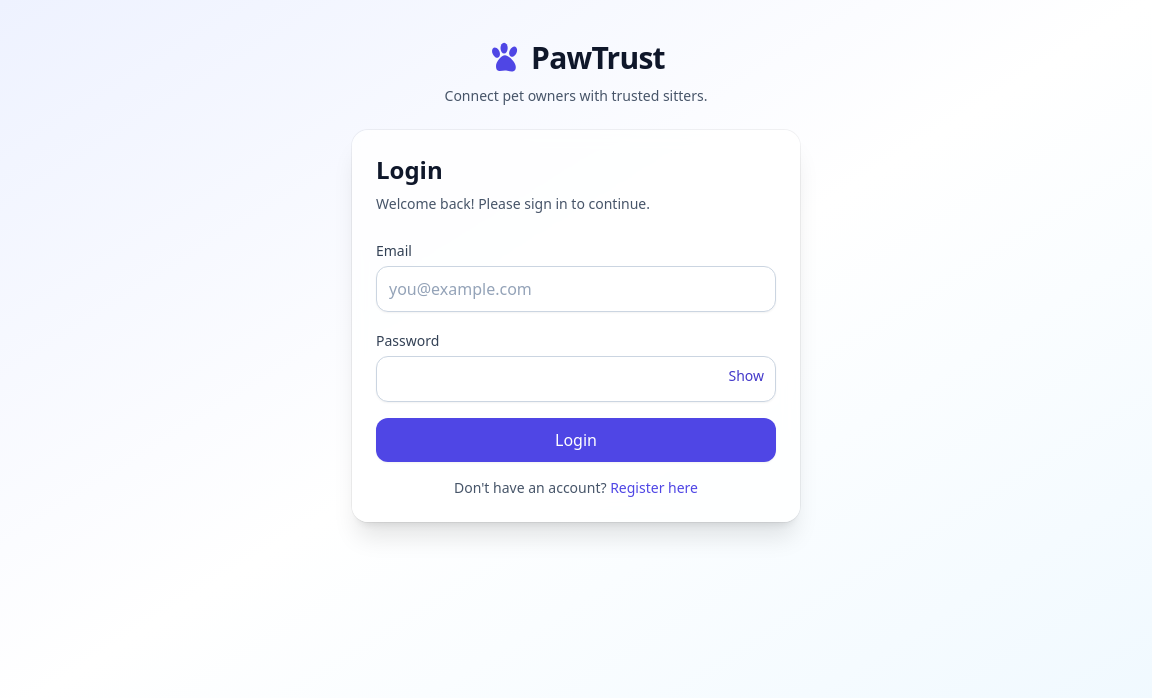
Scenario: authentication pages › stores a safe session and redirects owner
Type "taylor@example.com" into the field labelled "Email" at (576, 289), box [376,266,776,312]
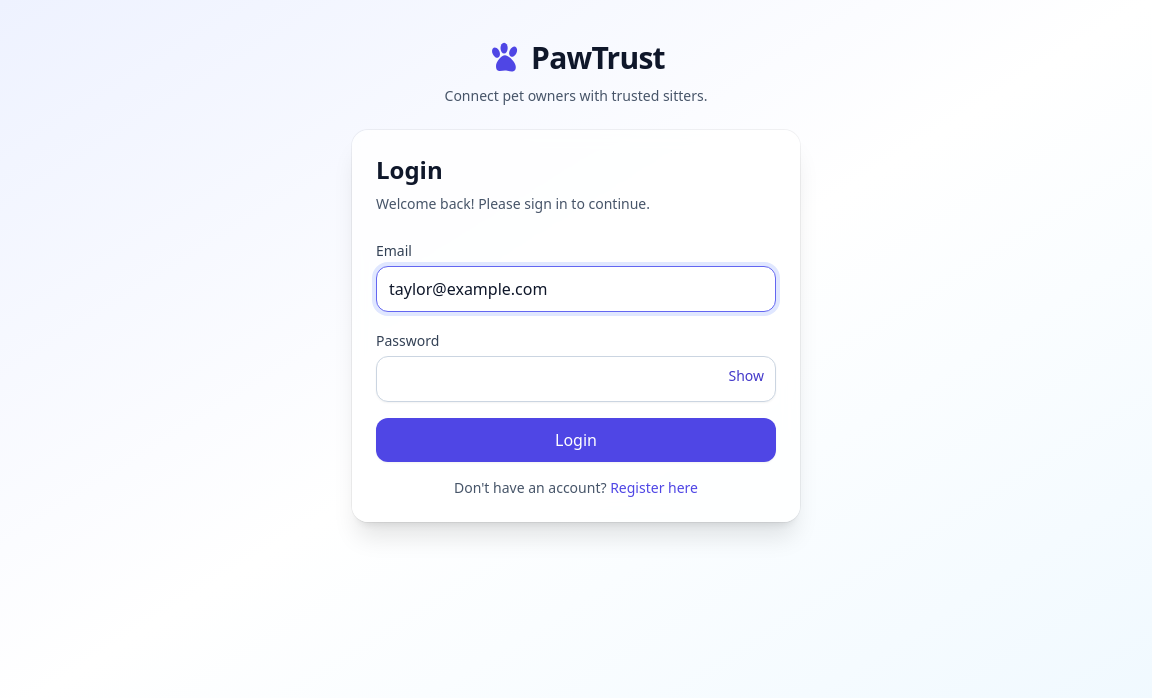
Type "test-password" into the password field labelled "Password" at (576, 379), box [376,356,776,402]
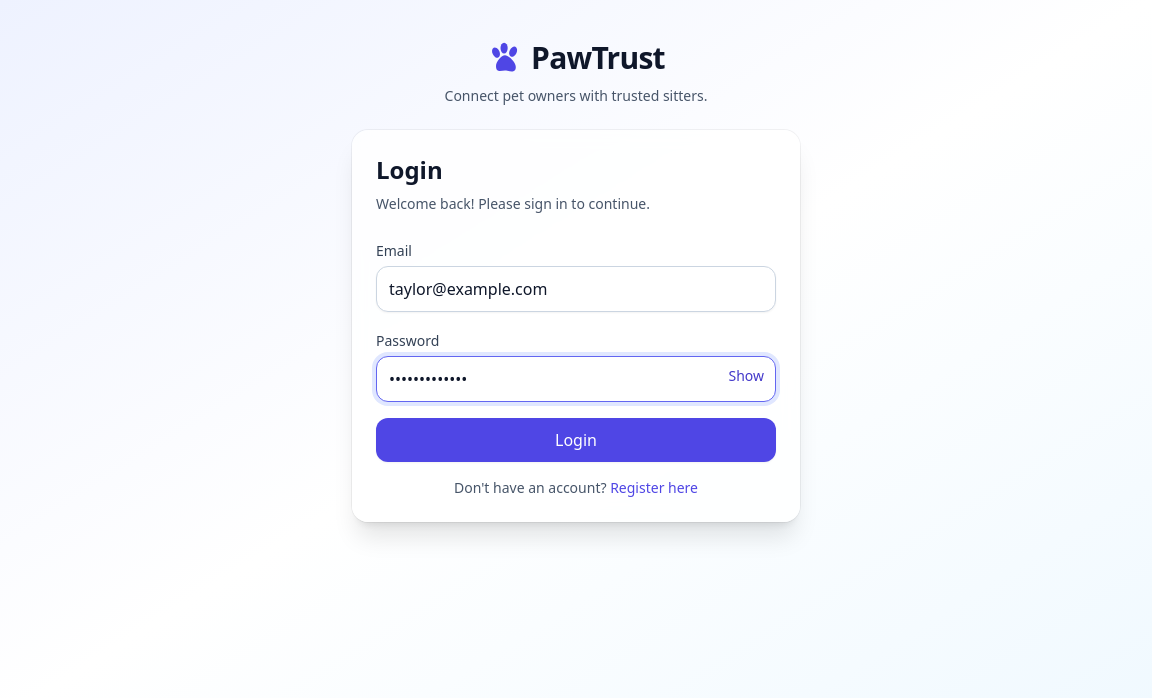
Click the button "Login" at (576, 440), box [376,418,776,462]
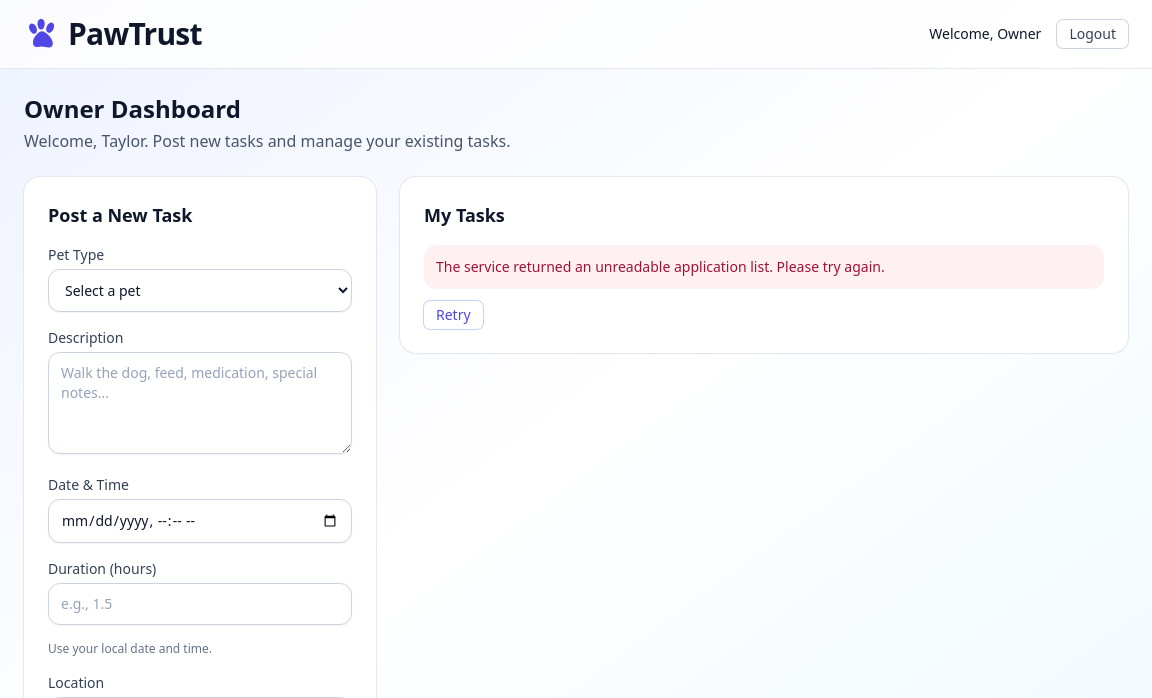
Expected: the heading "Owner Dashboard" is shown, [24,92,241,125]
Click the button "Logout" at (1093, 34), box [1057,20,1128,48]
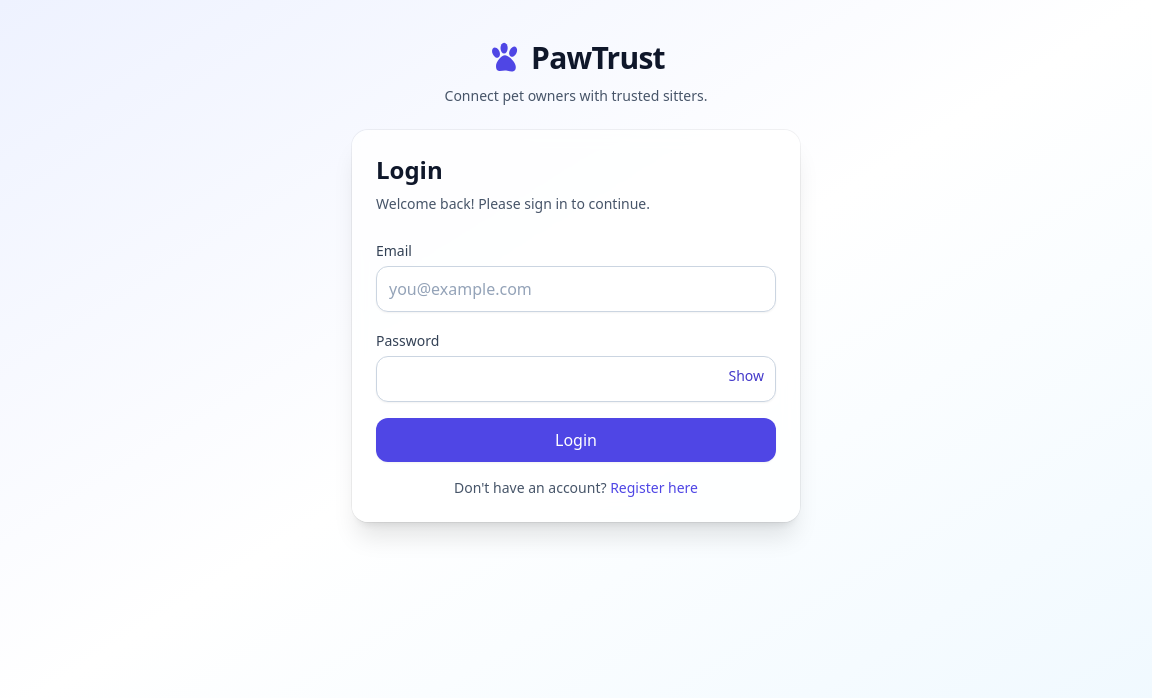
Expected: the button "Login" is shown, [376,418,776,462]
